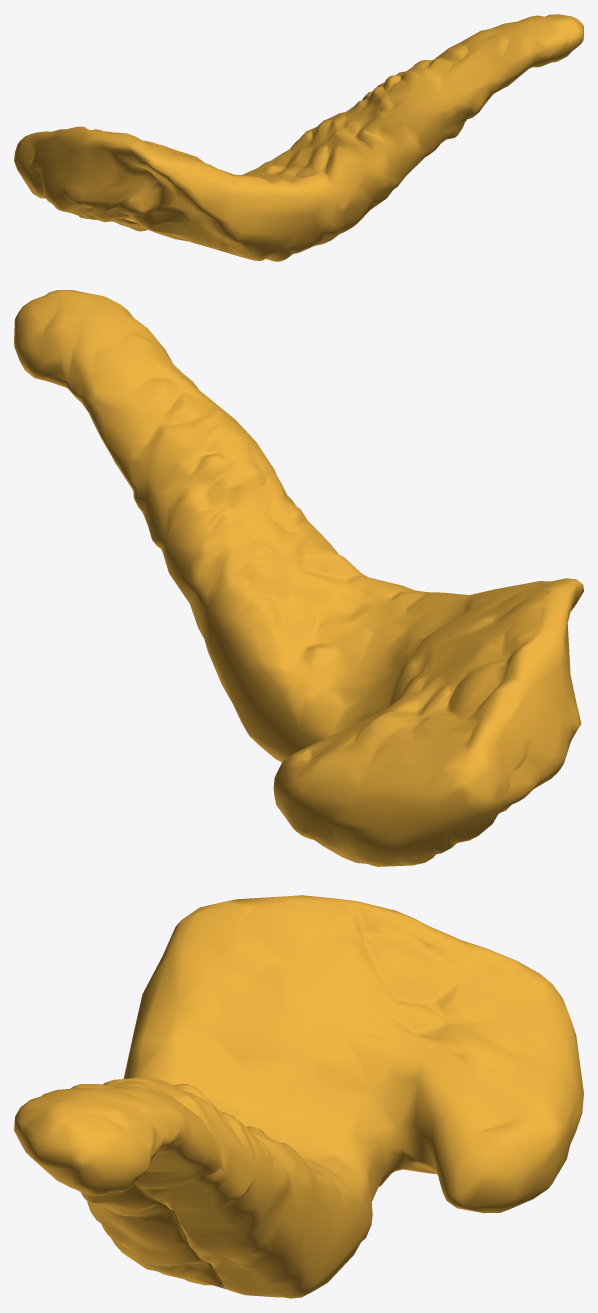
The picture shows the model from 3 angles, top to bottom: view 1: azimuth 30°, elevation 25°; view 2: azimuth 150°, elevation 25°; view 3: azimuth 270°, elevation 25°; orthographic projection. The views are drawn at different scales.
Visible parts, largest first — view 1: 胰; view 2: 胰; view 3: 胰.
Boxes of the visible parts, x1=… form: 胰: x1=14, y1=14, x2=583, y2=261; 胰: x1=14, y1=290, x2=583, y2=866; 胰: x1=14, y1=895, x2=583, y2=1298.
Size of the model in its own units: 0.1741 by 0.0786 by 0.1086.
